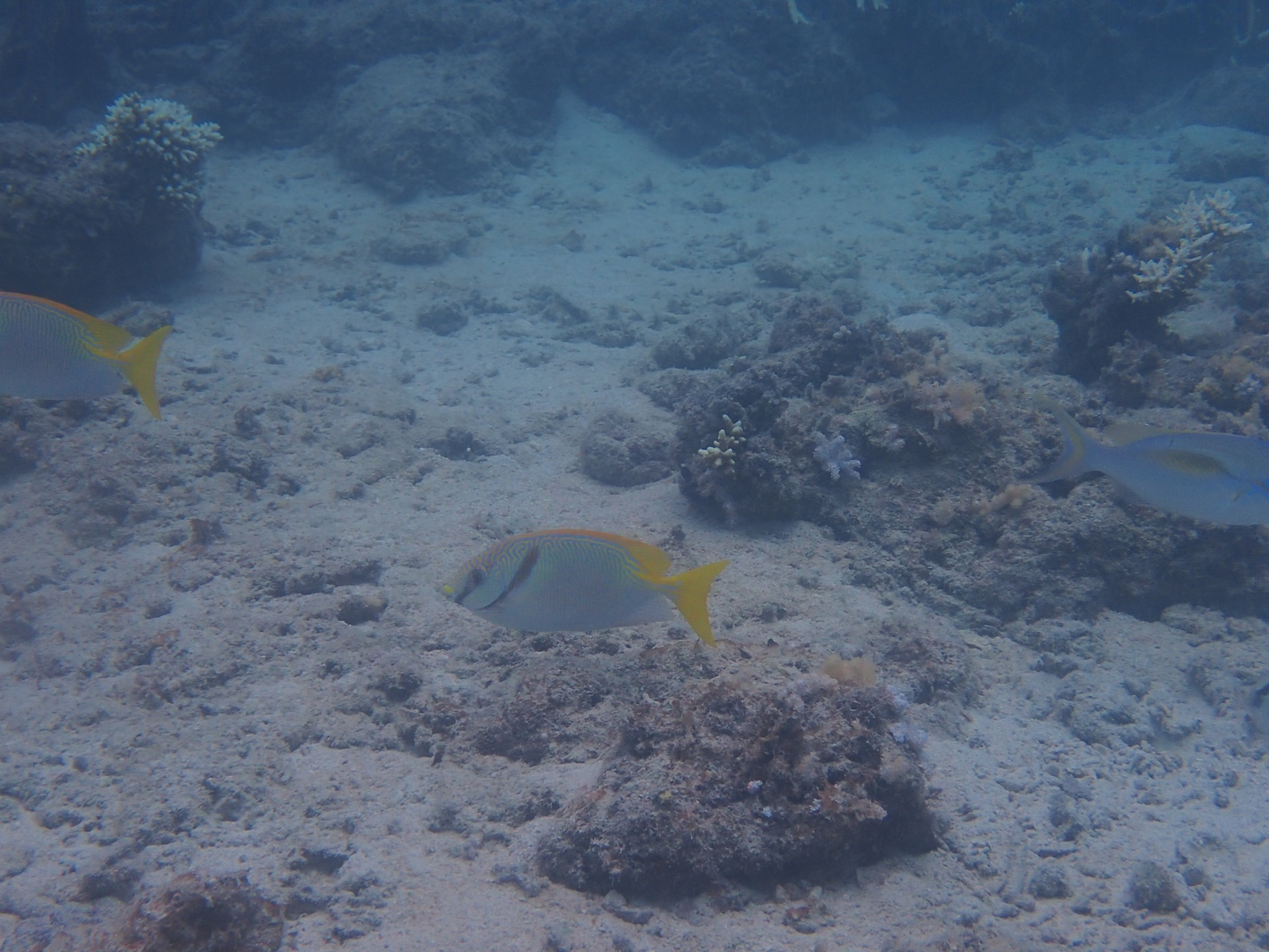fishbody: (442, 522, 726, 649)
fishhead: (440, 538, 544, 623)
